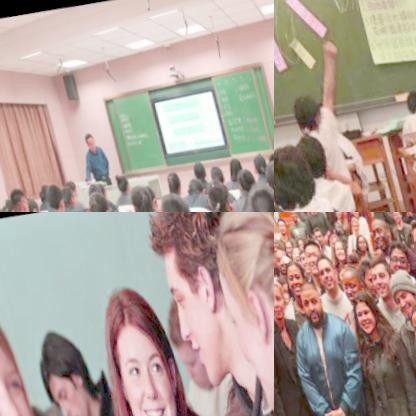head: (85, 274, 195, 416), (201, 212, 274, 416), (153, 292, 228, 401), (27, 321, 98, 416), (274, 142, 309, 203), (382, 265, 416, 318), (287, 133, 324, 180), (345, 286, 380, 334), (283, 90, 319, 132), (363, 252, 393, 298), (294, 281, 325, 325), (197, 172, 228, 212), (382, 238, 412, 279), (240, 176, 274, 212), (336, 260, 364, 302), (149, 185, 192, 212), (352, 252, 378, 293), (122, 179, 154, 212), (281, 259, 308, 298), (310, 251, 337, 290), (77, 184, 114, 212), (364, 213, 391, 250), (399, 296, 416, 353), (299, 237, 324, 275), (36, 181, 62, 212), (132, 179, 158, 210), (180, 173, 204, 204), (230, 162, 253, 194), (159, 164, 181, 196), (1, 185, 27, 212), (257, 156, 274, 194), (52, 181, 74, 209), (107, 166, 128, 195), (397, 84, 416, 116), (78, 179, 100, 206), (201, 160, 222, 186), (88, 173, 106, 201), (183, 156, 204, 180), (405, 214, 416, 259), (274, 277, 286, 317), (293, 248, 311, 273), (329, 237, 346, 263), (223, 154, 242, 177), (32, 179, 49, 203), (80, 129, 95, 153), (248, 152, 265, 173), (261, 147, 274, 173), (18, 194, 36, 212), (286, 245, 301, 265), (274, 246, 287, 269), (59, 174, 73, 195), (353, 233, 367, 250), (346, 217, 360, 234), (310, 227, 323, 245), (0, 197, 13, 212), (279, 239, 291, 255), (325, 231, 337, 247), (274, 215, 285, 232), (292, 235, 303, 251), (388, 212, 401, 222), (274, 233, 278, 249), (330, 212, 342, 217), (287, 212, 295, 219), (346, 212, 357, 216)
